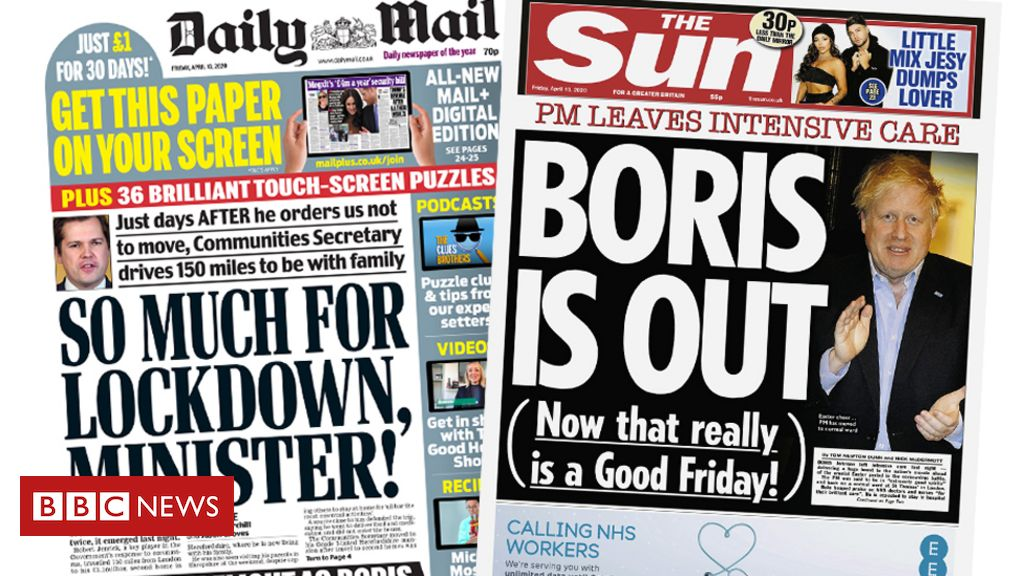news_paper: (450, 1, 1009, 576), (5, 2, 556, 576)
